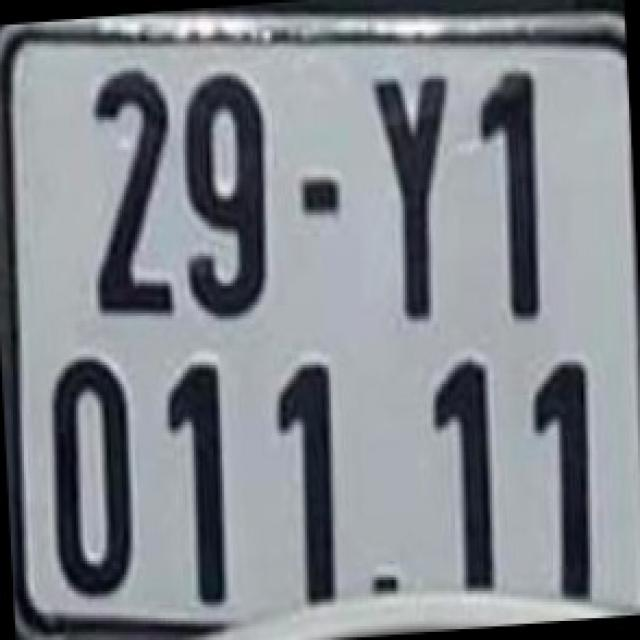0: (46, 348, 139, 602)
1: (161, 354, 246, 607), (268, 354, 352, 610), (475, 63, 555, 324), (427, 352, 509, 596), (527, 354, 607, 602)
2: (82, 60, 178, 321)
9: (178, 66, 276, 322)
Y: (370, 66, 457, 322)
